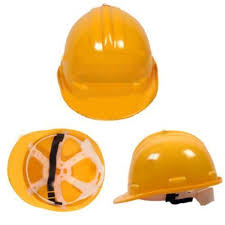Helmet: (47, 7, 166, 120), (6, 128, 107, 209), (121, 128, 216, 210)
